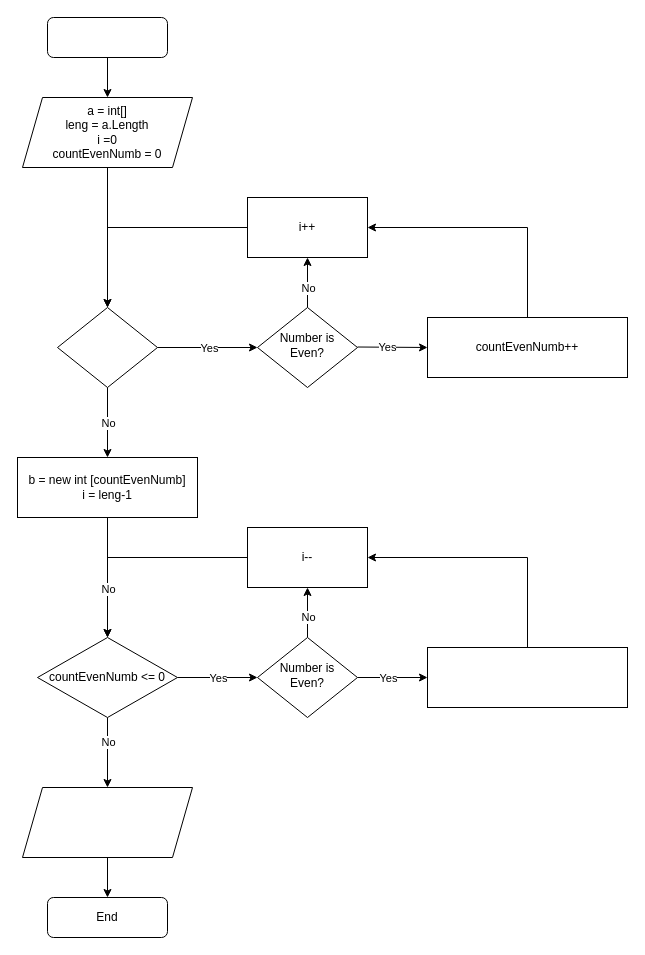
Image size: 645x955. Some labels were removed from this diagram. The centre of each missing label's shape, as x and y in pixels:
b[countEvenNumb] = a[i] countEvenNumb--: (527,677)
i < leng: (107,347)
Input b: (107,822)
Start: (107,37)
